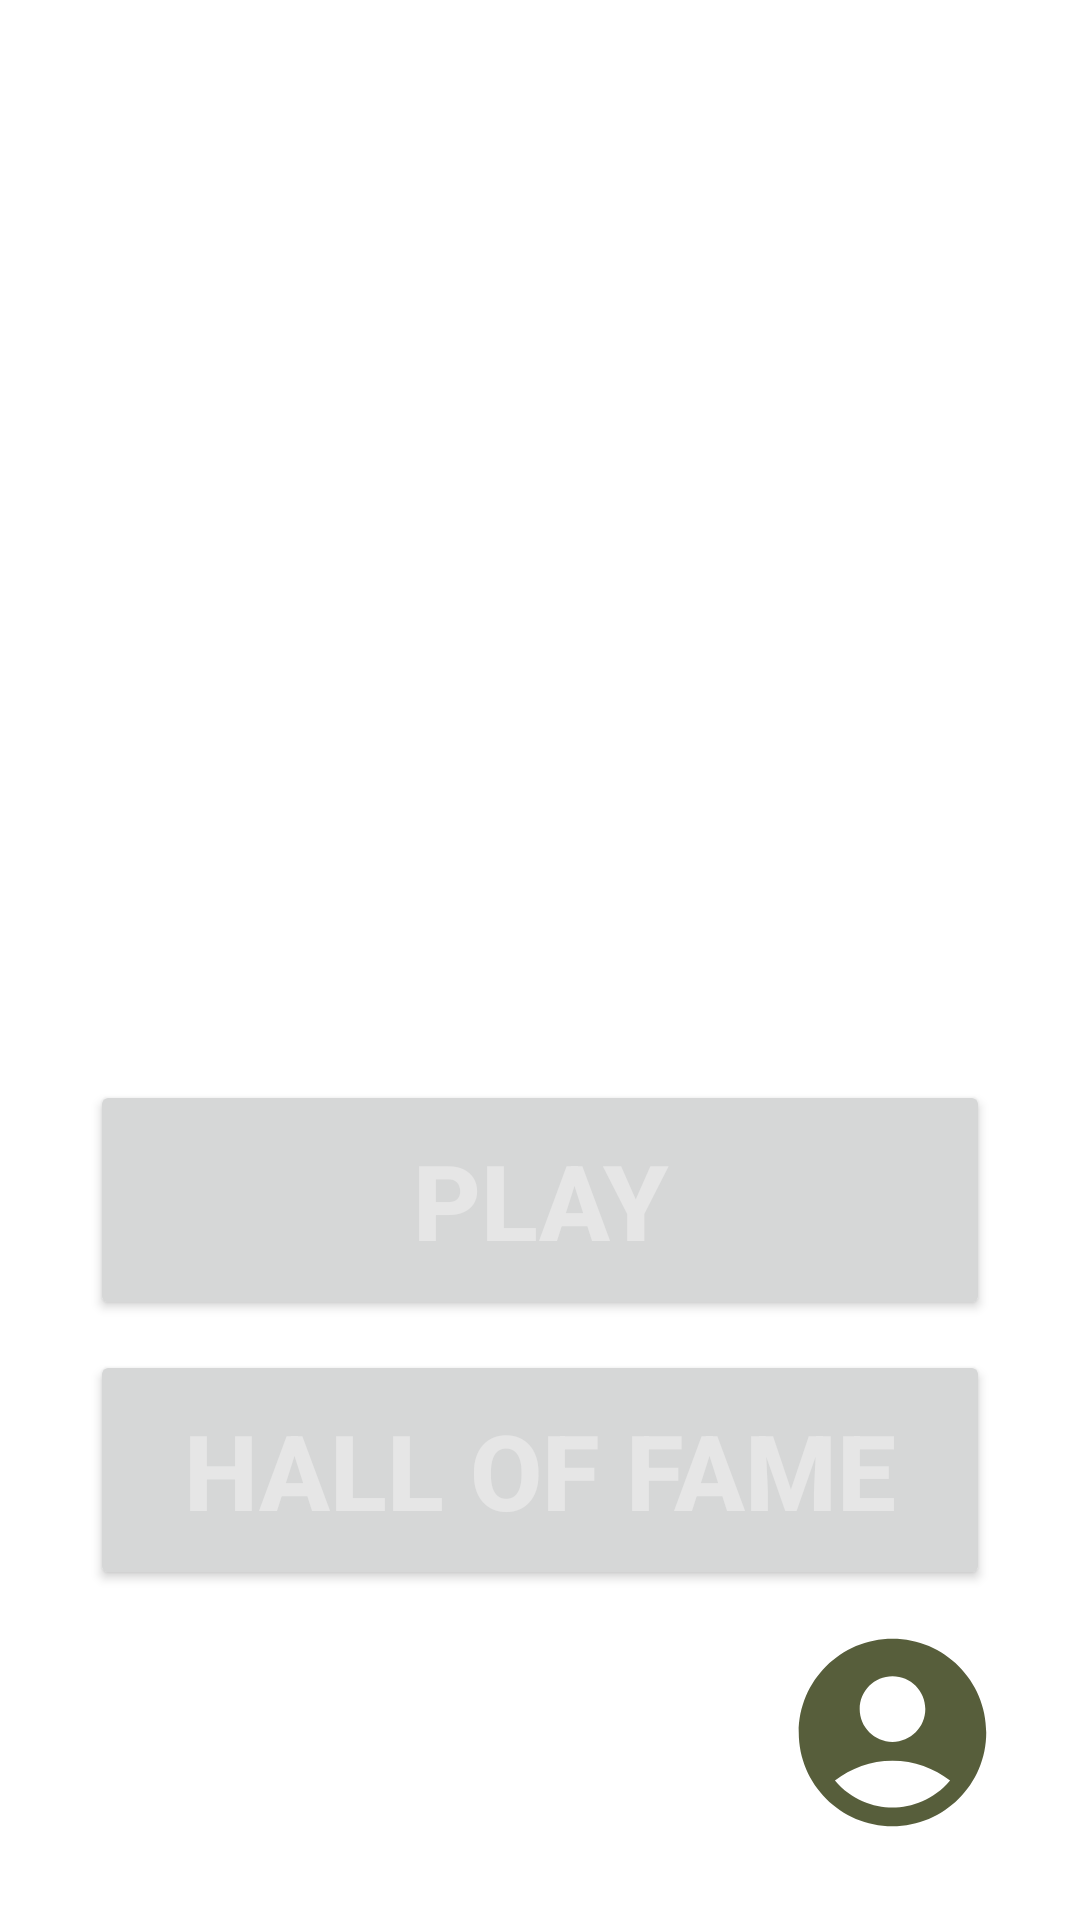

Point at icon controls on the screen. Image size 1080 x 1920, points as (x=x, y=y).
Manage account: (x=892, y=1732)
